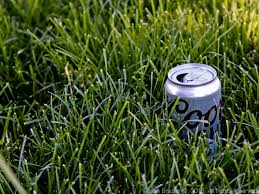can: (165, 62, 221, 139)
